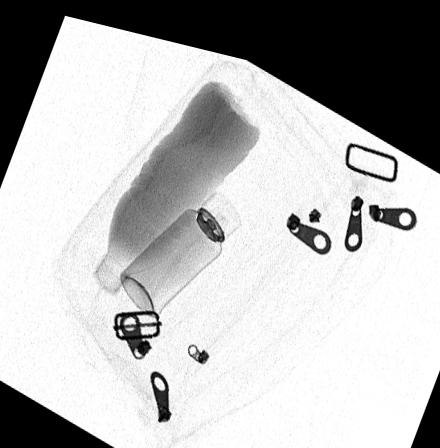Sprayer: (118, 181, 240, 308)
